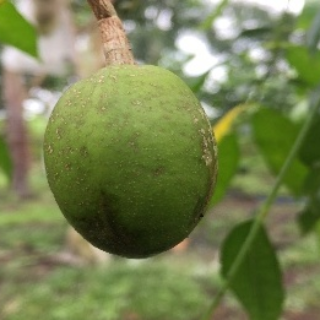coc: (45, 65, 217, 259)
